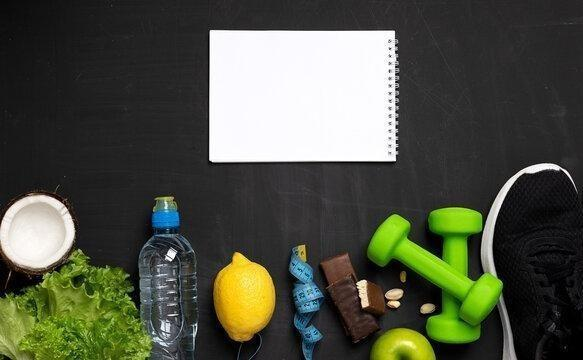bottle-plastic: (135, 193, 202, 353)
